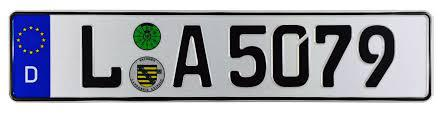0: (272, 24, 311, 87)
5: (228, 24, 267, 88)
7: (315, 24, 353, 87)
9: (357, 24, 396, 88)
A: (172, 24, 213, 89)
L: (80, 23, 123, 89)
